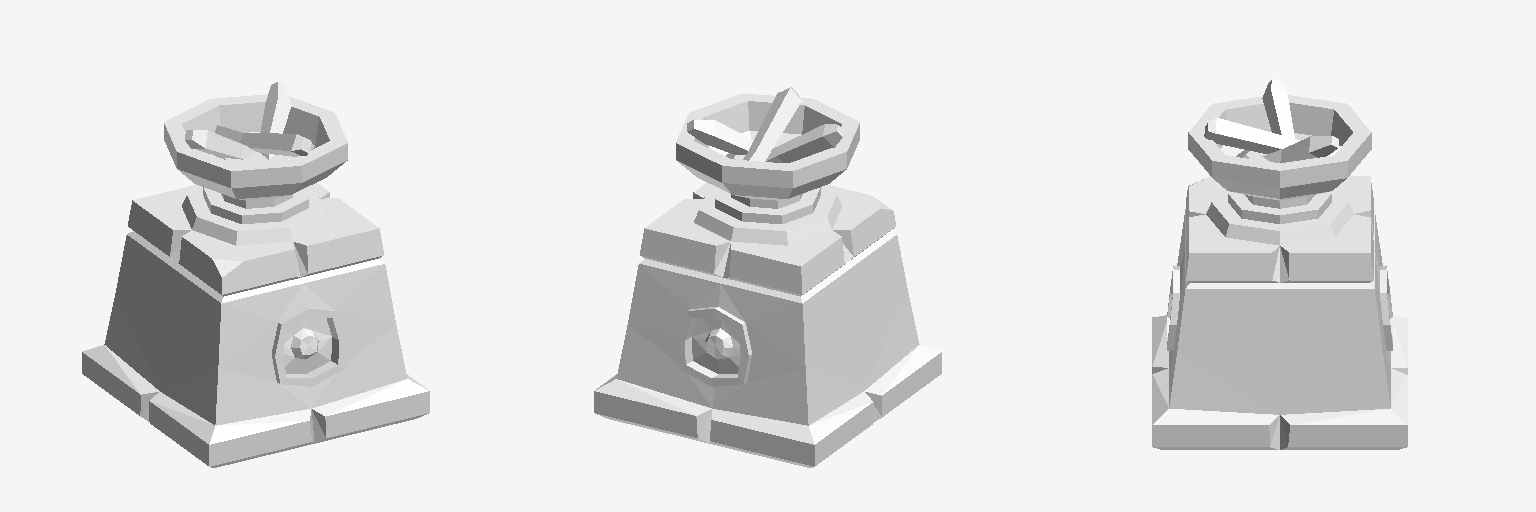
The model's file is Wall.obj.
3 renders of one model, left to right at view 1: azimuth 30°, elevation 25°; view 2: azimuth 150°, elevation 25°; view 3: azimuth 270°, elevation 25°, orthographic.
Visible parts, largest first — view 1: SM_Prop_StoneBrazier_01_Mesh; view 2: SM_Prop_StoneBrazier_01_Mesh; view 3: SM_Prop_StoneBrazier_01_Mesh.
Boxes of the visible parts, x1=… form: SM_Prop_StoneBrazier_01_Mesh: x1=82, y1=82, x2=429, y2=467; SM_Prop_StoneBrazier_01_Mesh: x1=594, y1=87, x2=941, y2=467; SM_Prop_StoneBrazier_01_Mesh: x1=1152, y1=79, x2=1407, y2=449.
Size of the model in its own units: 2.05 by 2.57 by 2.05.